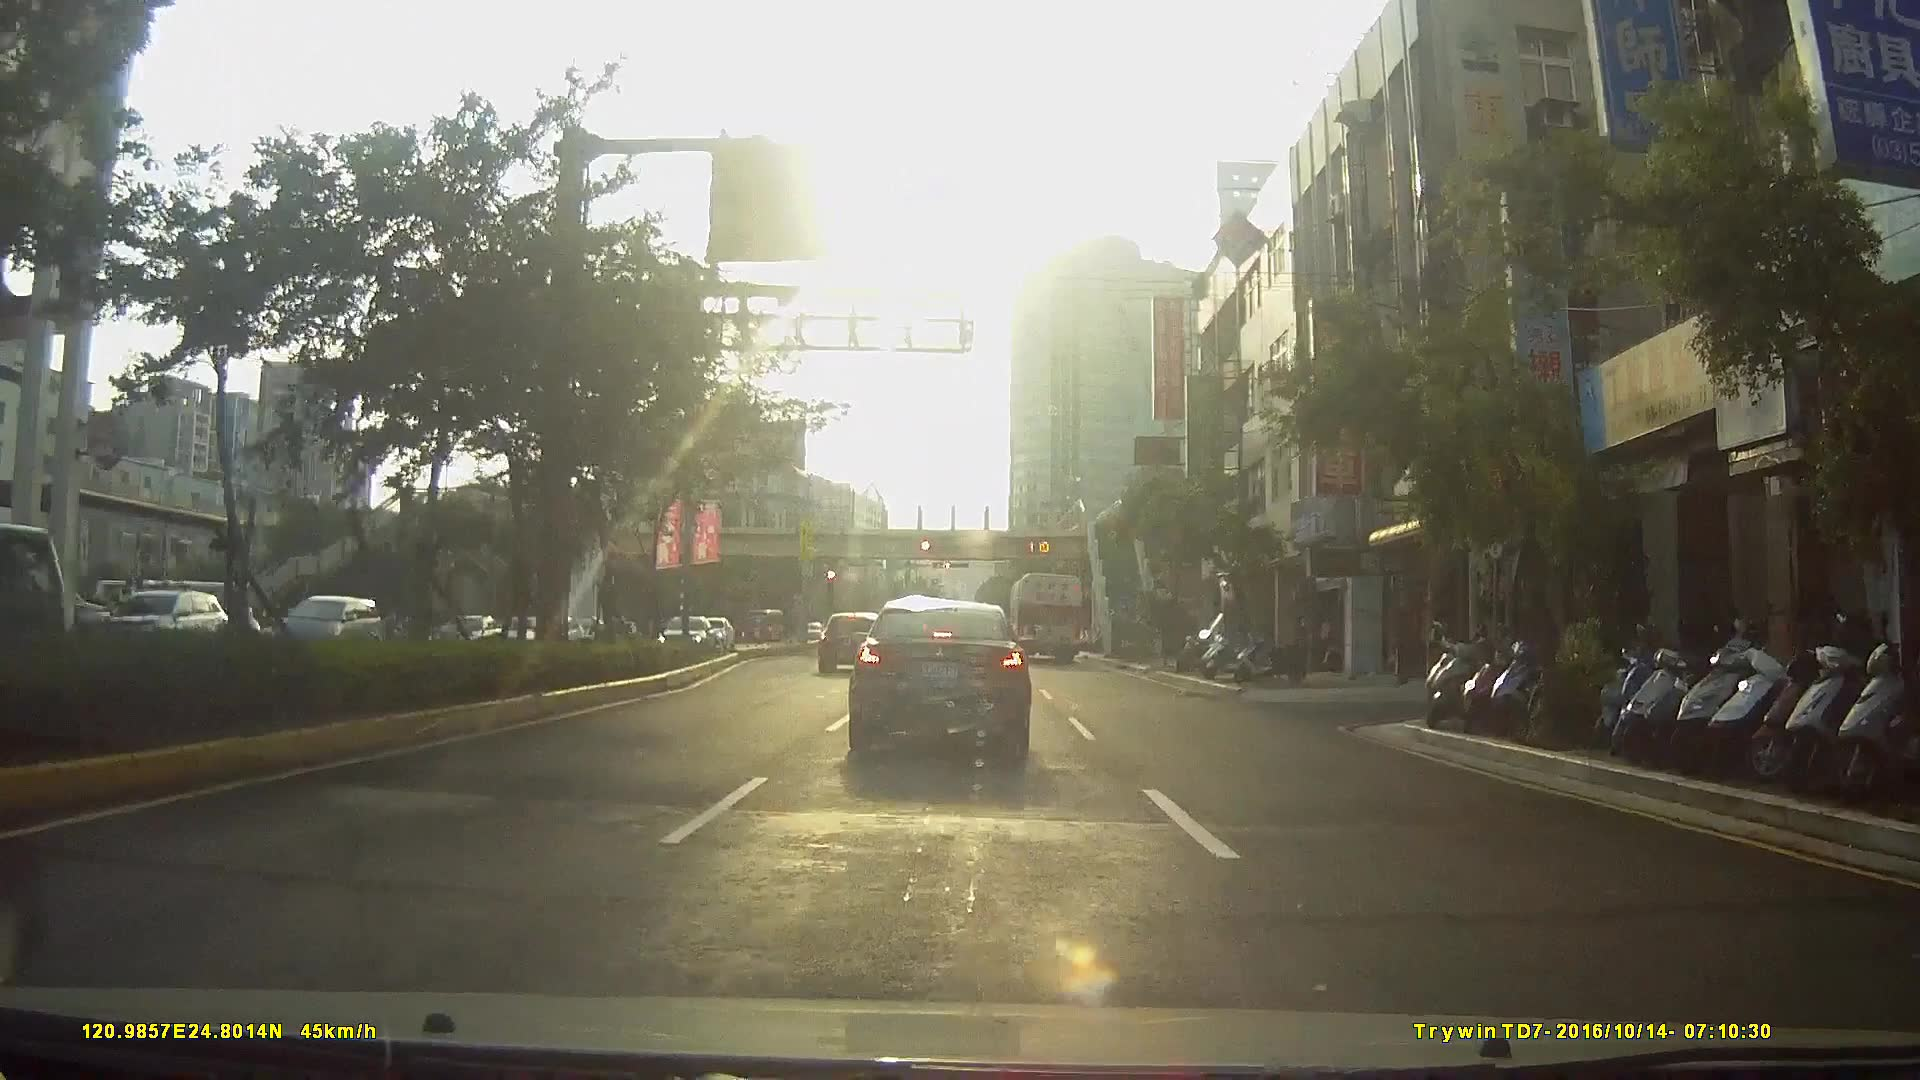vehicle: (845, 593, 1033, 757), (5, 524, 128, 684), (1006, 567, 1085, 663), (268, 591, 378, 654), (818, 604, 886, 673), (653, 609, 713, 651)
